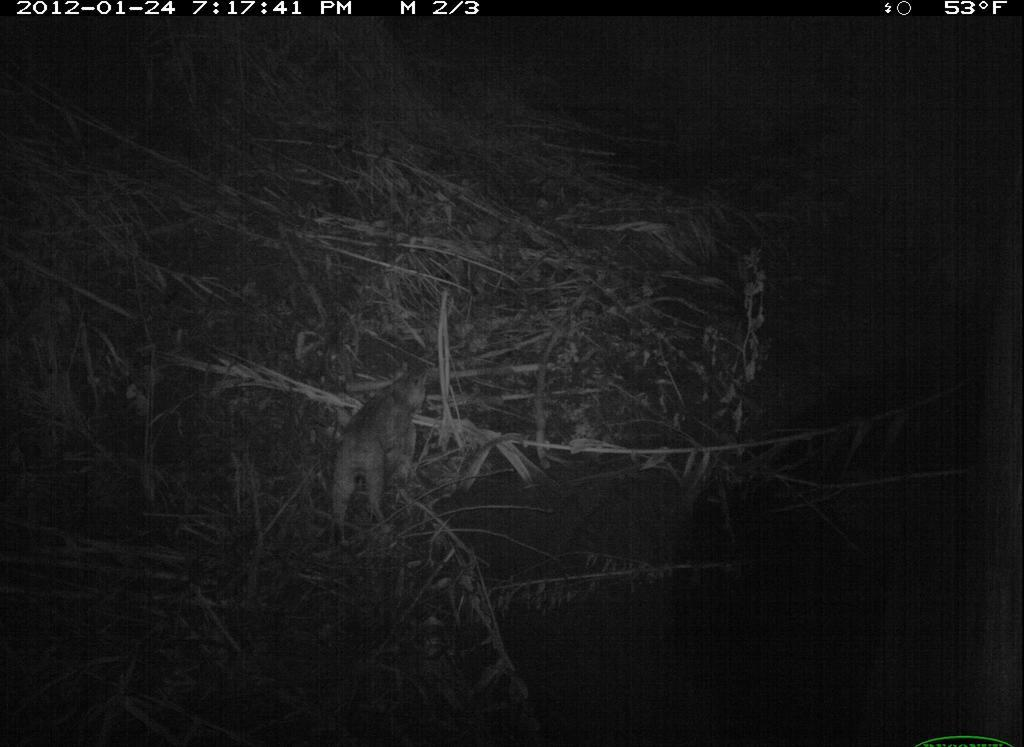bobcat: (297, 355, 457, 565)
